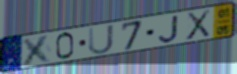0: (55, 31, 75, 60)
7: (120, 19, 144, 52)
J: (157, 14, 180, 44)
U: (87, 23, 115, 56)
X: (21, 32, 54, 67), (185, 8, 212, 43)
